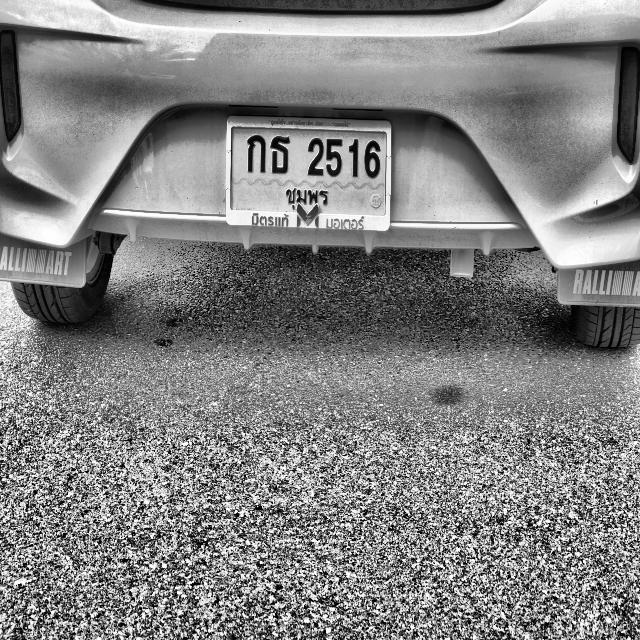license-plate: (224, 108, 396, 236)
